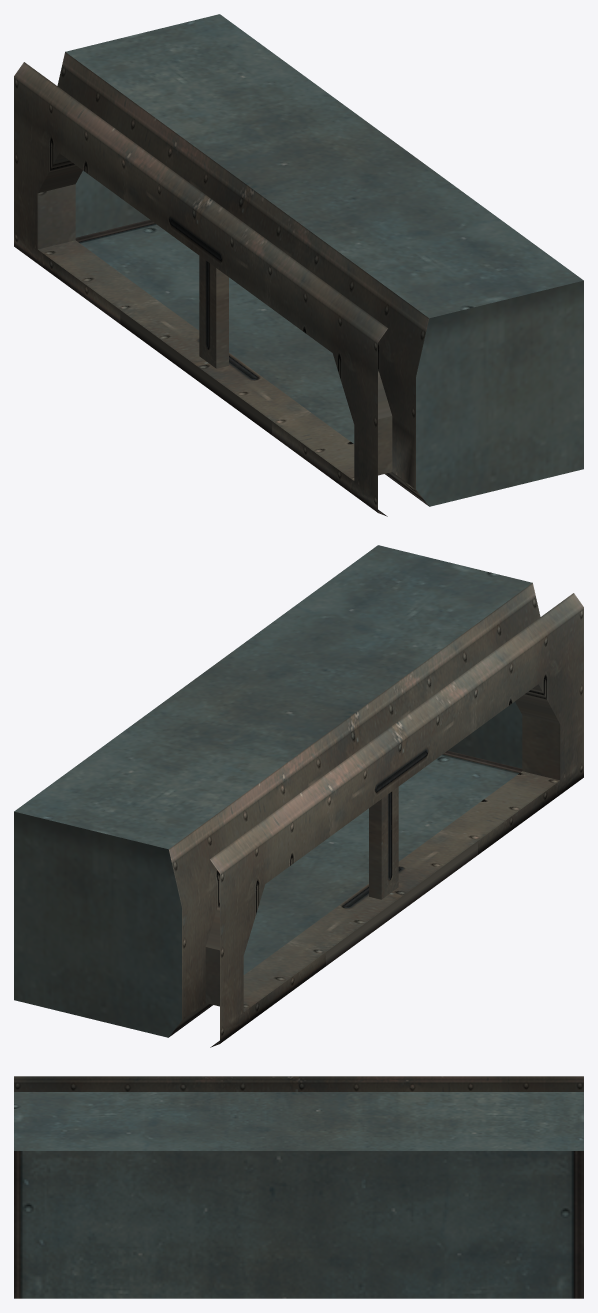
The model's file is mprw_wall_low_pipe.FBX.
The picture shows the model from 3 angles, top to bottom: view 1: azimuth 30°, elevation 25°; view 2: azimuth 150°, elevation 25°; view 3: azimuth 270°, elevation 25°; orthographic projection. The views are drawn at different scales.
Visible parts, largest first — view 1: mprw_wall_low_pipe; view 2: mprw_wall_low_pipe; view 3: mprw_wall_low_pipe.
Boxes of the visible parts, x1=… form: mprw_wall_low_pipe: x1=14, y1=14, x2=583, y2=516; mprw_wall_low_pipe: x1=14, y1=545, x2=583, y2=1047; mprw_wall_low_pipe: x1=14, y1=1076, x2=583, y2=1298.
Size of the model in its own units: 229 by 200 by 700.
Materials: 1 (1 with a texture image).
